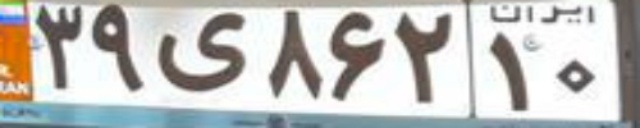0: (549, 58, 599, 93)
1: (486, 32, 529, 111)
2: (393, 10, 453, 103)
3: (35, 4, 85, 90)
6: (328, 11, 384, 99)
8: (263, 10, 320, 99)
9: (91, 4, 142, 91)
ye: (153, 8, 248, 91)
